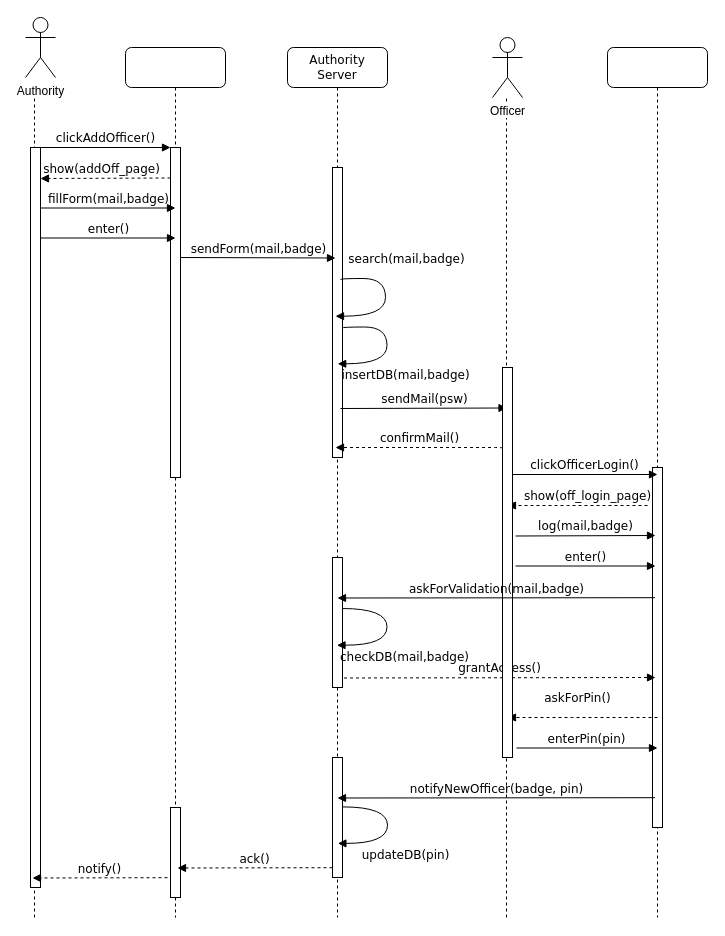
Image size: 725x936. Some labels were removed from this diagram. The box of each missing label's shape, as (x1, y1, x2, y2) in pixels:
Mobile App: (606, 46, 708, 918)
Web App: (124, 46, 226, 918)
